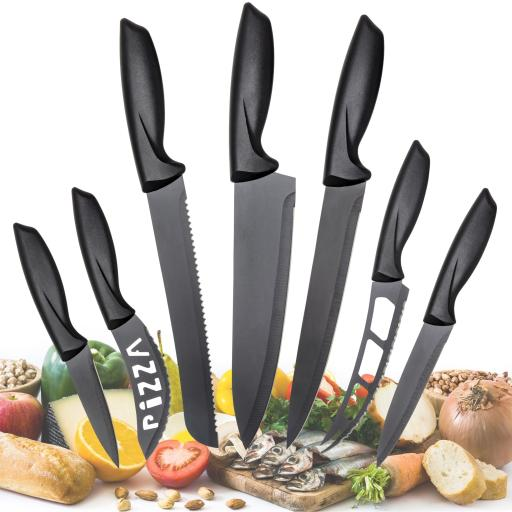knife: (206, 2, 312, 448)
